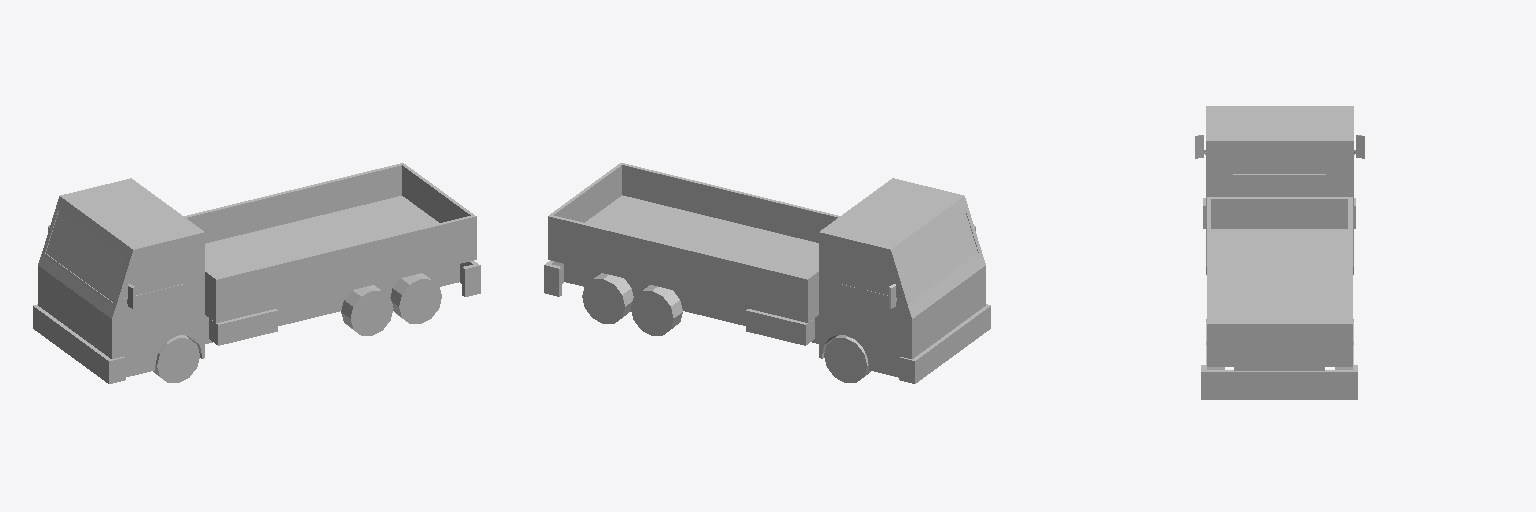
The model's file is Truck.obj.
3 views of the same model, side by side, from view 1: azimuth 30°, elevation 25°; view 2: azimuth 150°, elevation 25°; view 3: azimuth 270°, elevation 25° (orthographic).
Parts seen in each view (by area): view 1: Truck; view 2: Truck; view 3: Truck.
Boxes of the visible parts, <box> form: Truck: <box>33,163,480,383</box>; Truck: <box>544,163,990,383</box>; Truck: <box>1195,106,1364,399</box>.
Bounding box in the file's own units: 358 × 134 × 143.